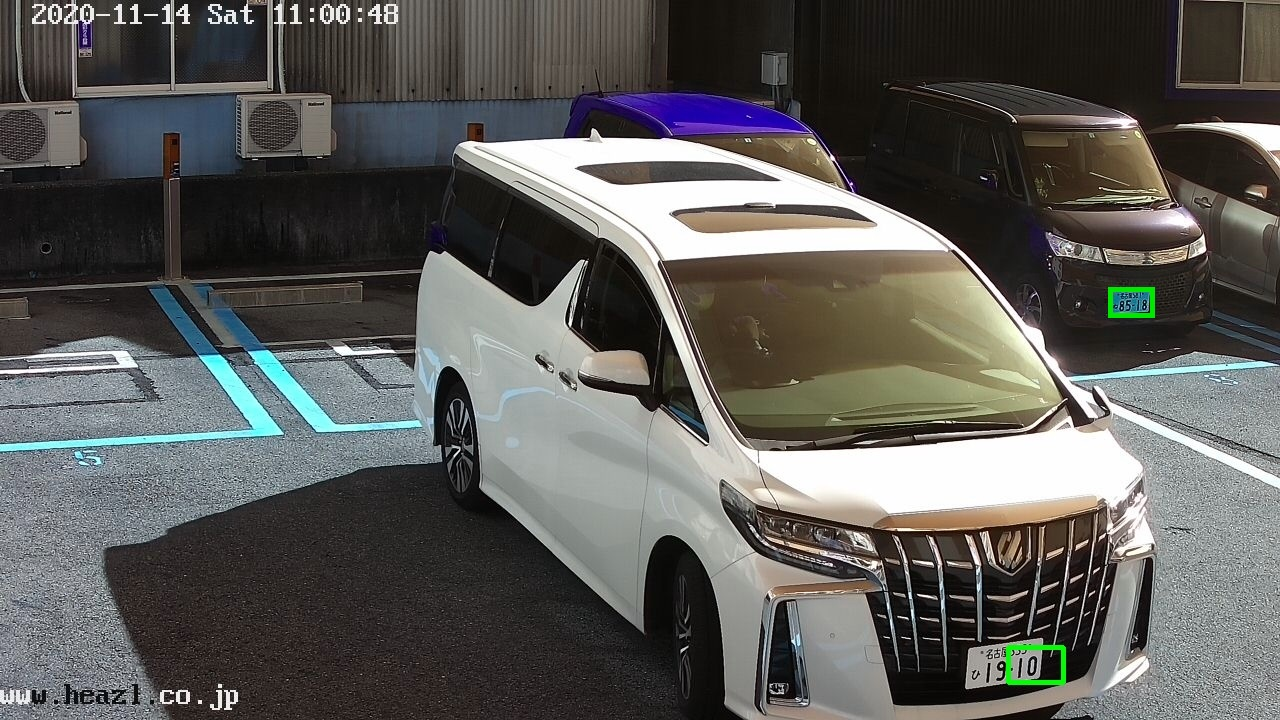number_plate: (965, 647, 1045, 682), (1110, 288, 1153, 312)
